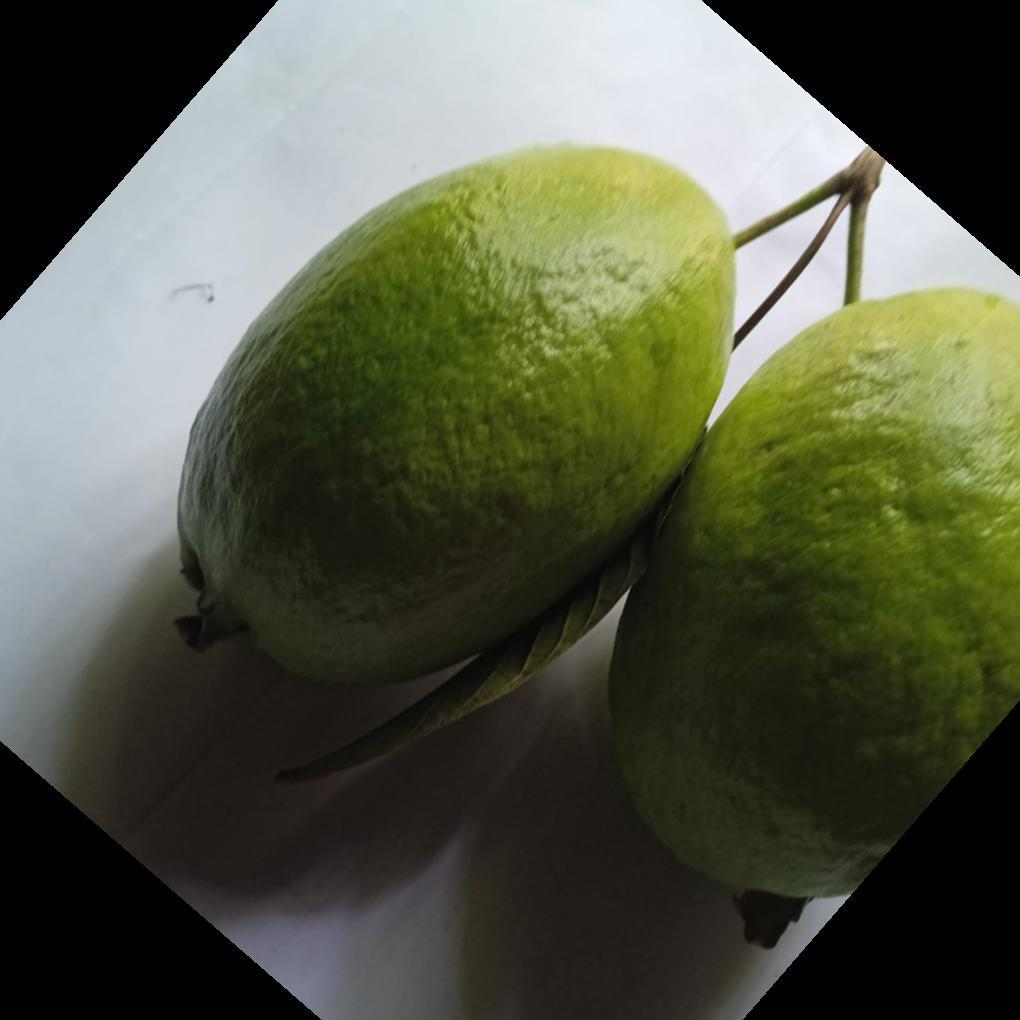FreshGuava: (174, 145, 1020, 902)
